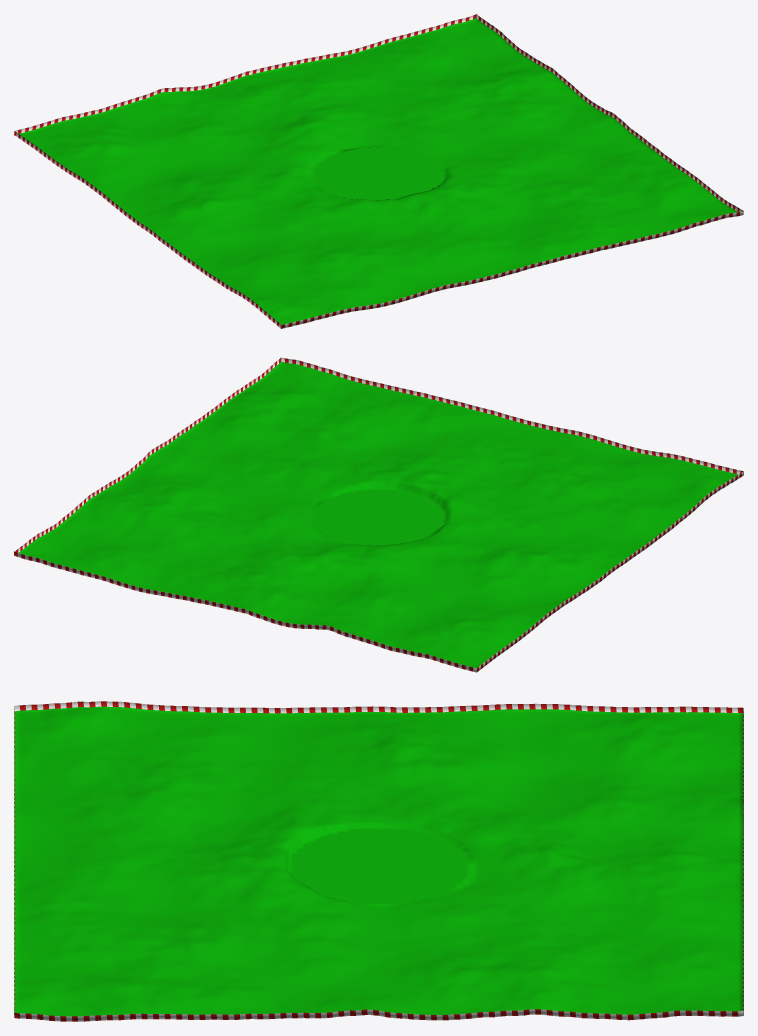
Rendered from TESTES PISTA Subdividida Completa.glb.
3 renders of one model, top to bottom at view 1: azimuth 30°, elevation 25°; view 2: azimuth 150°, elevation 25°; view 3: azimuth 270°, elevation 25°, orthographic. The views are drawn at different scales.
Visible parts, largest first — view 1: Landscape.001; view 2: Landscape.001; view 3: Landscape.001.
Part boxes in pixels (left/top/right/bottom): Landscape.001: left=14, top=14, right=743, bottom=328; Landscape.001: left=14, top=357, right=743, bottom=672; Landscape.001: left=14, top=701, right=743, bottom=1021.
Size of the model in its own units: 5933 by 161 by 5934.
